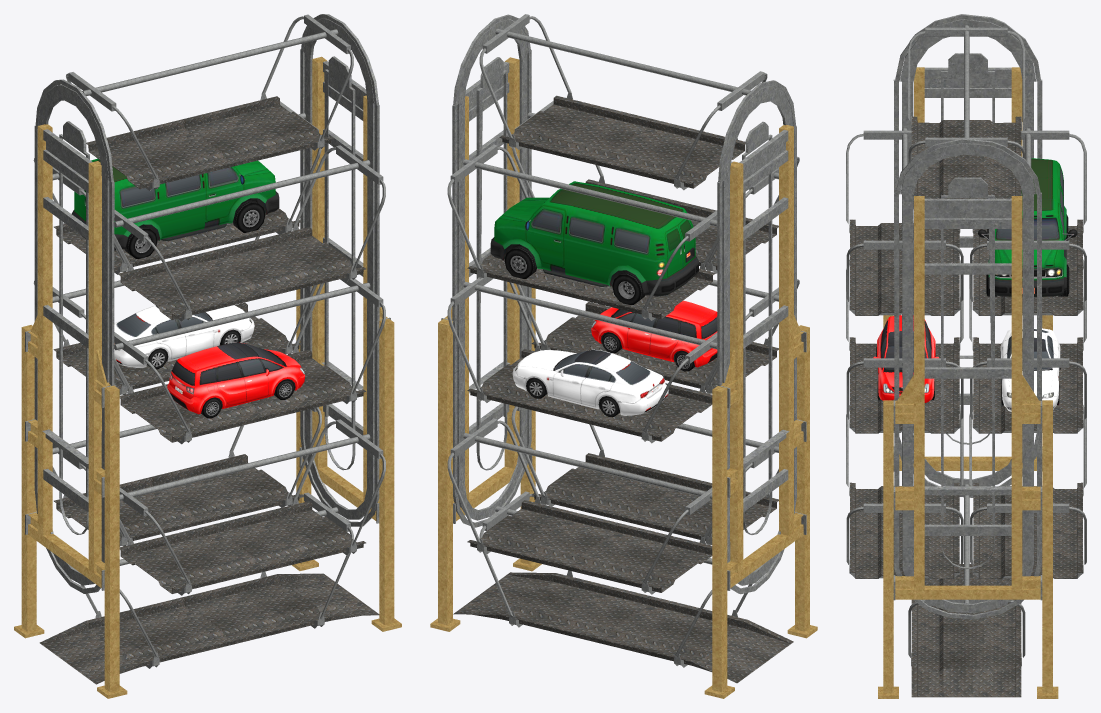
File: jp_parking_lift.glb
The picture shows the model from 3 angles, left to right: view 1: azimuth 30°, elevation 25°; view 2: azimuth 150°, elevation 25°; view 3: azimuth 270°, elevation 25°; orthographic projection. The views are drawn at different scales.
Visible parts, largest first — view 1: Arc002_1, Lift (2)_21, Lift_6, Lift1 (4)_28, Lift1 (1)_8, Lift (1)_9, Lift1_7, Van_2A_23, Hybrid_1A (2)_10, Sedan_5A (3)_16, Lift1 (3)_22, Lift1 (2)_15 (+4 smaller); view 2: Arc002_1, Van_2A_23, Lift1_7, Lift1 (4)_28, Lift1 (1)_8, Lift_6, Lift1 (2)_15, Lift1 (3)_22, Sedan_5A (3)_16, Lift (1)_9, Hybrid_1A (2)_10, Lift (2)_21 (+4 smaller); view 3: Arc002_1, Lift (2)_21, Lift1 (1)_8, Lift1 (4)_28, Lift_6, Lift1_7, Lift (1)_9, Lift1 (2)_15, Lift1 (3)_22, Van_2A_23, Step2_4, Hybrid_1A (2)_10 (+1 smaller).
Boxes of the visible parts, x1,y1,x2,y2 form: Arc002_1: [14, 14, 401, 698]; Lift (2)_21: [114, 145, 385, 321]; Lift_6: [119, 419, 385, 595]; Lift1 (4)_28: [66, 14, 353, 190]; Lift1 (1)_8: [80, 492, 353, 668]; Lift (1)_9: [114, 278, 385, 444]; Lift1_7: [52, 407, 321, 546]; Van_2A_23: [71, 158, 279, 250]; Hybrid_1A (2)_10: [167, 342, 305, 414]; Sedan_5A (3)_16: [114, 305, 254, 367]; Lift1 (3)_22: [33, 101, 321, 274]; Lift1 (2)_15: [33, 231, 316, 394]; Arc002_1: [430, 14, 817, 698]; Van_2A_23: [490, 181, 698, 296]; Lift1_7: [447, 418, 712, 594]; Lift1 (4)_28: [479, 14, 767, 190]; Lift1 (1)_8: [479, 491, 752, 667]; Lift_6: [511, 406, 778, 545]; Lift1 (2)_15: [447, 278, 717, 443]; Lift1 (3)_22: [447, 144, 717, 320]; Sedan_5A (3)_16: [512, 349, 668, 415]; Lift (1)_9: [516, 279, 799, 393]; Hybrid_1A (2)_10: [591, 300, 717, 367]; Lift (2)_21: [512, 101, 799, 273]; Arc002_1: [878, 14, 1058, 698]; Lift (2)_21: [846, 128, 963, 315]; Lift1 (1)_8: [908, 484, 1025, 671]; Lift1 (4)_28: [908, 25, 1025, 208]; Lift_6: [846, 405, 963, 578]; Lift1_7: [969, 405, 1086, 578]; Lift (1)_9: [846, 259, 963, 433]; Lift1 (2)_15: [969, 259, 1086, 433]; Lift1 (3)_22: [970, 128, 1086, 315]; Van_2A_23: [978, 158, 1077, 297]; Step2_4: [911, 665, 1021, 697]; Hybrid_1A (2)_10: [873, 315, 938, 402].
Size of the model in its own units: 10.62 by 19.9 by 7.85.
4 materials, 4 textured.
